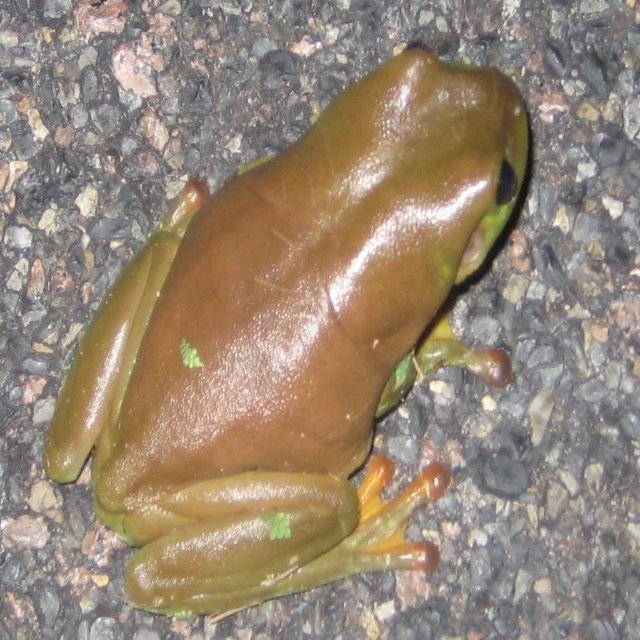Frog: (38, 37, 530, 612)
